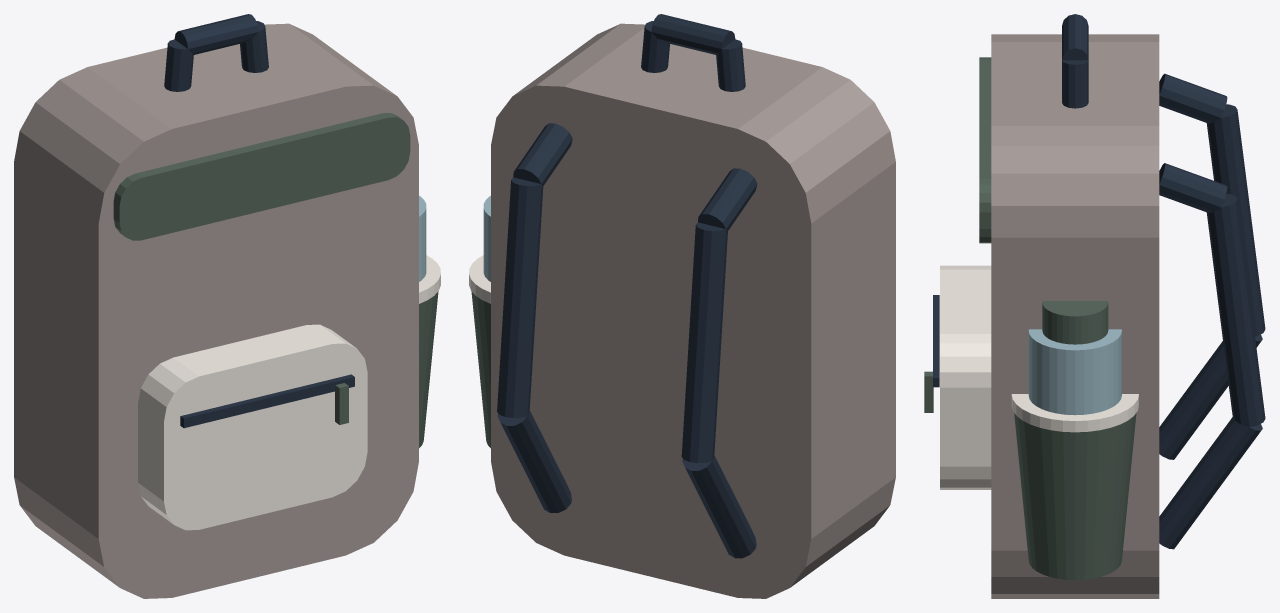
Rendered from backpack.glb.
3 renders of one model, left to right at view 1: azimuth 30°, elevation 25°; view 2: azimuth 150°, elevation 25°; view 3: azimuth 270°, elevation 25°, orthographic.
Visible parts, largest first — view 1: fabric shell, front pocket, lid binding, zip, carry loop1, side pocket, carry loop0, carry loop2, pocket rim, bottle neck, zip pull; view 2: fabric shell, strap -0.341, strap 0.341, strap -0.342, strap 0.342, carry loop1, strap -0.340, strap 0.340, side pocket, carry loop0, carry loop2, pocket rim (+1 smaller); view 3: fabric shell, side pocket, front pocket, strap 0.341, bottle neck, strap 0.342, strap -0.341, strap -0.342, cap, pocket rim, lid binding, strap -0.340 (+4 smaller).
Part boxes in pixels (left/top/right/bottom): fabric shell: left=14, top=23, right=418, bottom=598; front pocket: left=138, top=324, right=367, bottom=530; lid binding: left=113, top=113, right=410, bottom=240; zip: left=180, top=374, right=354, bottom=428; carry loop1: left=174, top=14, right=258, bottom=54; side pocket: left=419, top=291, right=438, bottom=448; carry loop0: left=164, top=39, right=193, bottom=91; carry loop2: left=240, top=21, right=268, bottom=72; pocket rim: left=419, top=255, right=440, bottom=303; bottle neck: left=419, top=195, right=426, bottom=281; zip pull: left=335, top=383, right=348, bottom=424; fabric shell: left=491, top=23, right=895, bottom=598; strap -0.341: left=681, top=222, right=727, bottom=463; strap 0.341: left=497, top=177, right=543, bottom=417; strap -0.342: left=682, top=455, right=756, bottom=558; strap 0.342: left=497, top=410, right=571, bottom=512; carry loop1: left=651, top=14, right=735, bottom=54; strap -0.340: left=698, top=168, right=757, bottom=230; strap 0.340: left=513, top=123, right=572, bottom=185; side pocket: left=471, top=291, right=490, bottom=448; carry loop0: left=716, top=39, right=745, bottom=91; carry loop2: left=641, top=21, right=669, bottom=72; pocket rim: left=469, top=255, right=490, bottom=303; fabric shell: left=991, top=34, right=1159, bottom=598; side pocket: left=1014, top=413, right=1136, bottom=580; front pocket: left=940, top=265, right=991, bottom=489; strap 0.341: left=1206, top=194, right=1265, bottom=427; bottle neck: left=1028, top=329, right=1121, bottom=415; strap 0.342: left=1159, top=417, right=1262, bottom=549; strap -0.341: left=1206, top=104, right=1265, bottom=336; strap -0.342: left=1159, top=334, right=1262, bottom=459; cap: left=1042, top=301, right=1108, bottom=344; pocket rim: left=1011, top=394, right=1138, bottom=432; lid binding: left=979, top=57, right=991, bottom=243; strap -0.340: left=1159, top=73, right=1227, bottom=123.
Bounding box in the file's own units: 1.38 × 1.84 × 1.1.
